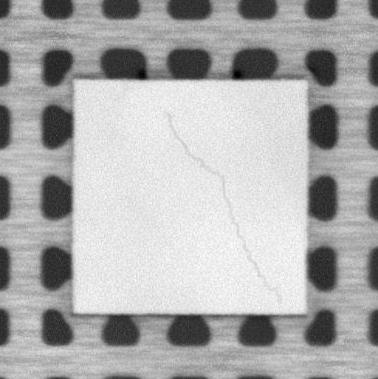DIE_CRACK: (166, 112, 280, 300)
